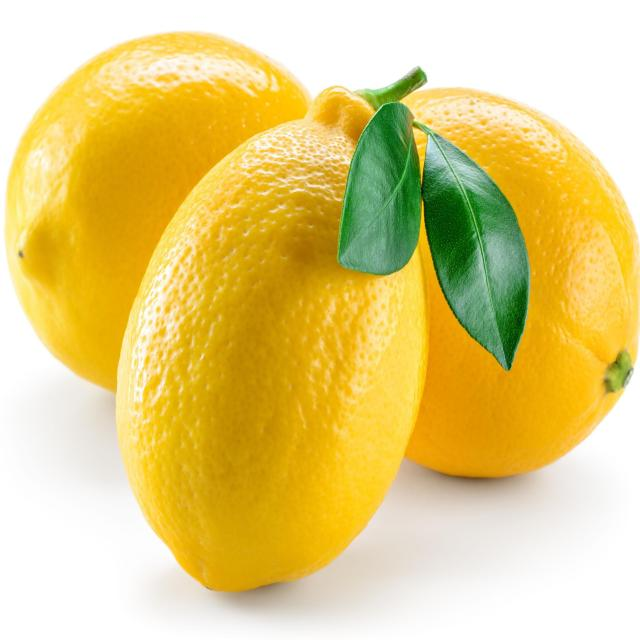lemon: (108, 57, 525, 598)
